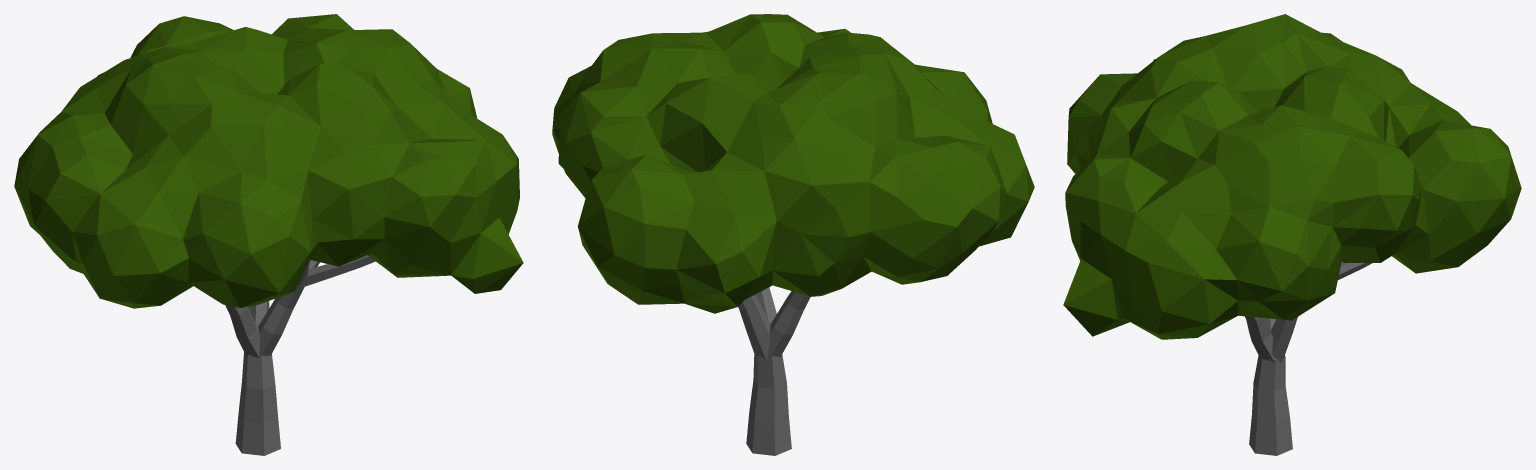
Rendered from SM__Deciduous__Tree__Growth__2.fbx.
3 renders of one model, left to right at view 1: azimuth 30°, elevation 25°; view 2: azimuth 150°, elevation 25°; view 3: azimuth 270°, elevation 25°, orthographic. The views are drawn at different scales.
Parts seen in each view (by area): view 1: normal2; view 2: normal2; view 3: normal2.
Part boxes in pixels (x1,y1,x2,y2): normal2: (14,14,523,455); normal2: (552,14,1034,455); normal2: (1063,14,1521,455).
Size of the model in its own units: 6.86 by 6.01 by 6.46.
